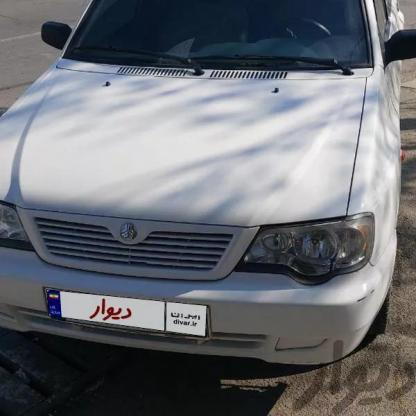Car: (0, 0, 413, 369)
